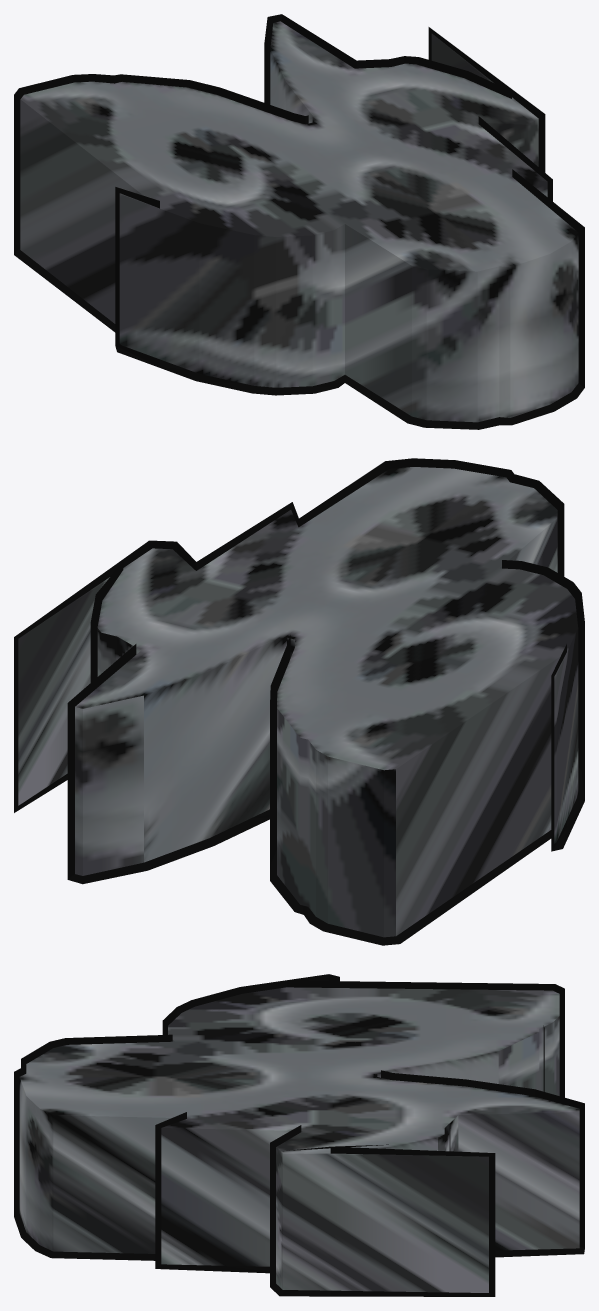
Rendered from Building_GrayStatueDeadlifeDust_Things_Building_GrayStatue_GrayStatueB.glb.
3 renders of one model, top to bottom at view 1: azimuth 30°, elevation 25°; view 2: azimuth 150°, elevation 25°; view 3: azimuth 270°, elevation 25°, orthographic. The views are drawn at different scales.
Parts seen in each view (by area): view 1: Body, Outline; view 2: Body, Outline; view 3: Body, Outline.
Part boxes in pixels (left/top/right/bottom): Body: left=20, top=21, right=578, bottom=422; Outline: left=14, top=14, right=584, bottom=429; Body: left=18, top=467, right=578, bottom=937; Outline: left=14, top=458, right=584, bottom=945; Body: left=19, top=987, right=579, bottom=1292; Outline: left=14, top=974, right=584, bottom=1296.
Size of the model in its own units: 0.8713 by 0.3423 by 1.18.
2 materials, 1 textured.
